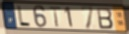1: (63, 7, 74, 29)
6: (32, 4, 48, 29)
7: (80, 5, 95, 31)
B: (96, 8, 115, 30)
L: (16, 4, 32, 27)
T: (48, 6, 63, 28)
